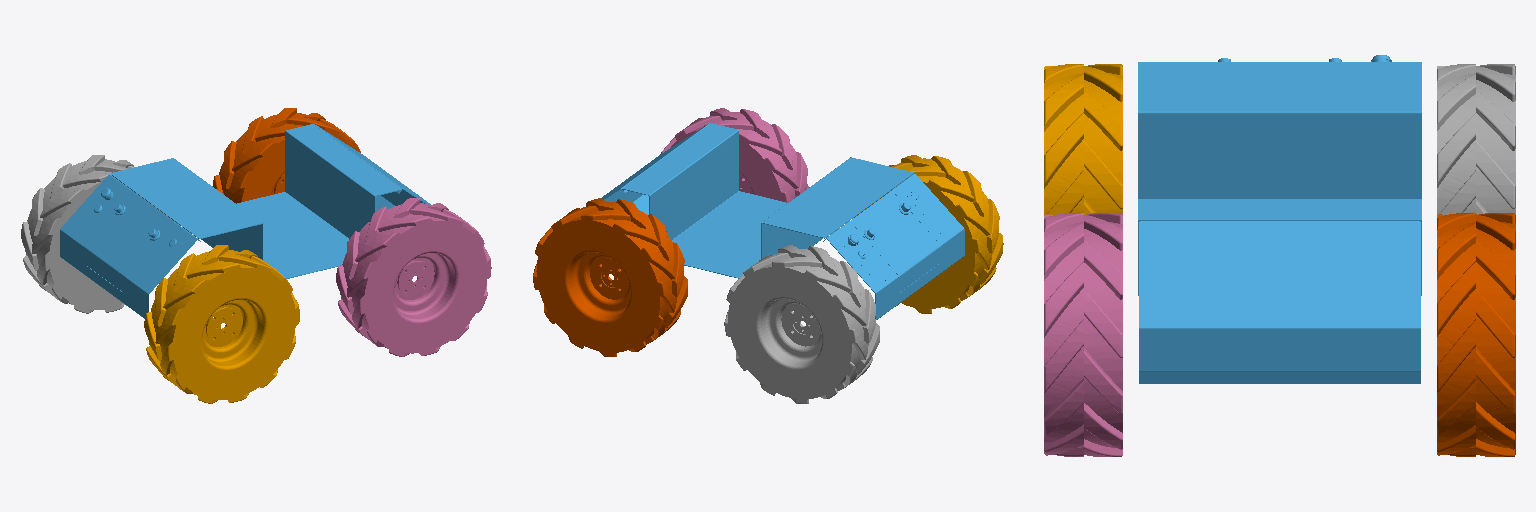
URDF robot description (husky):
<?xml version="1.0" ?>
<!-- =================================================================================== -->
<!-- |    This document was autogenerated by xacro from description.xacro              | -->
<!-- |    EDITING THIS FILE BY HAND IS NOT RECOMMENDED                                 | -->
<!-- =================================================================================== -->
<!--
Software License Agreement (BSD)

\file      description.urdf.xacro
\authors   [author] <[email redacted]>, [author] <[email redacted]>
\copyright Copyright (c) 2015, Clearpath Robotics, Inc., All rights reserved.

Redistribution and use in source and binary forms, with or without modification, are permitted provided that
the following conditions are met:
 * Redistributions of source code must retain the above copyright notice, this list of conditions and the
   following disclaimer.
 * Redistributions in binary form must reproduce the above copyright notice, this list of conditions and the
   following disclaimer in the documentation and/or other materials provided with the distribution.
 * Neither the name of Clearpath Robotics nor the names of its contributors may be used to endorse or promote
   products derived from this software without specific prior written permission.

THIS SOFTWARE IS PROVIDED BY THE COPYRIGHT [author] "AS IS" AND ANY EXPRESS OR IMPLIED WAR-
RANTIES, INCLUDING, BUT NOT LIMITED TO, THE IMPLIED WARRANTIES OF MERCHANTABILITY AND FITNESS FOR A PARTICULAR
PURPOSE ARE DISCLAIMED. IN NO EVENT SHALL THE COPYRIGHT [author] LIABLE FOR ANY DIRECT, IN-
DIRECT, INCIDENTAL, SPECIAL, EXEMPLARY, OR CONSEQUENTIAL DAMAGES (INCLUDING, BUT NOT LIMITED TO, PROCUREMENT
OF SUBSTITUTE GOODS OR SERVICES; LOSS OF USE, DATA, OR PROFITS; OR BUSINESS INTERRUPTION) HOWEVER CAUSED AND
ON ANY THEORY OF LIABILITY, WHETHER IN CONTRACT, STRICT LIABILITY, OR TORT (INCLUDING NEGLIGENCE OR OTHERWISE)
ARISING IN ANY WAY OUT OF THE USE OF THIS SOFTWARE, EVEN IF ADVISED OF THE POSSIBILITY OF SUCH DAMAGE.
-->
<robot name="husky" xmlns:xacro="http://ros.org/wiki/xacro">
  <!-- Included URDF/XACRO Files -->
  <!-- Base Size -->
  <!-- Wheel Mounting Positions -->
  <!-- Wheel Properties -->
  <!-- Base link is the center of the robot's bottom plate -->
  <link name="base_link">
    <visual>
      <origin rpy="0 0 0" xyz="0 0 0"/>
      <geometry>
        <mesh filename="package://husky_description/meshes/base_link.dae"/>
      </geometry>
    </visual>
    <collision>
      <origin rpy="0 0 0" xyz="0 0 0.061875"/>
      <geometry>
        <box size="0.9874 0.5709 0.12375"/>
      </geometry>
    </collision>
    <collision>
      <origin rpy="0 0 0" xyz="0 0 0.185625"/>
      <geometry>
        <box size="0.78992 0.5709 0.12375"/>
      </geometry>
    </collision>
  </link>
  <!-- For conviencence, added by [author] -->
  <link name="pelvis"/>
  <joint name="pelvis_joint" type="fixed">
    <origin rpy="0 0 0" xyz="0 0 0"/>
    <parent link="base_link"/>
    <child link="pelvis"/>
  </joint>
  <!-- Base footprint is on the ground under the robot -->
  <link name="base_footprint"/>
  <joint name="base_footprint_joint" type="fixed">
    <origin rpy="0 0 0" xyz="0 0 -0.14493"/>
    <parent link="base_link"/>
    <child link="base_footprint"/>
  </joint>
  <!-- Interial link stores the robot's inertial information -->
  <link name="inertial_link">
    <inertial>
      <mass value="33.455"/>
      <origin xyz="-0.08748 -0.00085 0.09947"/>
      <inertia ixx="0.6022" ixy="-0.02364" ixz="-0.1197" iyy="1.7386" iyz="-0.001544" izz="2.0296"/>
    </inertial>
  </link>
  <joint name="inertial_joint" type="fixed">
    <origin rpy="0 0 0" xyz="0 0 0"/>
    <parent link="base_link"/>
    <child link="inertial_link"/>
  </joint>
  <!-- IMU Link is the standard mounting position for the UM6 IMU.-->
  <!-- Can be modified with environment variables in /etc/ros/setup.bash -->
  <link name="imu_link"/>
  <joint name="imu_joint" type="fixed">
    <!-- GT changes 24/06/2016 -->
    <!-- MicroStrain IMU -->
    <origin rpy="0 1.5705 0" xyz="0.19 0 0.149"/>
    <!-- UM6 IMU -->
    <!--<origin rpy="0 -1.5708 3.1416" xyz="0.19 0 0.149"/>-->
    <parent link="base_link"/>
    <child link="imu_link"/>
  </joint>
  <gazebo reference="imu_link">
    </gazebo>
  <!-- Husky wheel macros -->
  <link name="front_left_wheel_link">
    <inertial>
      <mass value="2.637"/>
      <origin xyz="0 0 0"/>
      <inertia ixx="0.02467" ixy="0" ixz="0" iyy="0.02467" iyz="0" izz="0.04411"/>
    </inertial>
    <visual>
      <origin rpy="0 0 0" xyz="0 0 0"/>
      <geometry>
        <mesh filename="package://husky_description/meshes/wheel.dae"/>
      </geometry>
    </visual>
    <collision>
      <origin rpy="1.570795 0 0" xyz="0 0 0"/>
      <geometry>
        <cylinder length="0.1143" radius="0.17775"/>
      </geometry>
    </collision>
  </link>
  <gazebo reference="front_left_wheel_link">
    <mu1 value="1.0"/>
    <mu2 value="1.0"/>
    <kp value="10000000.0"/>
    <kd value="1.0"/>
    <fdir1 value="1 0 0"/>
  </gazebo>
  <joint name="front_left_wheel" type="continuous">
    <parent link="base_link"/>
    <child link="front_left_wheel_link"/>
    <origin rpy="0 0 0" xyz="0.256 0.2854 0.03282"/>
    <axis rpy="0 0 0" xyz="0 1 0"/>
  </joint>
  <transmission name="front_left_wheel_trans" type="SimpleTransmission">
    <type>transmission_interface/SimpleTransmission</type>
    <actuator name="front_left_wheel_motor">
      <mechanicalReduction>1</mechanicalReduction>
    </actuator>
    <joint name="front_left_wheel">
      <hardwareInterface>VelocityJointInterface</hardwareInterface>
    </joint>
  </transmission>
  <link name="front_right_wheel_link">
    <inertial>
      <mass value="2.637"/>
      <origin xyz="0 0 0"/>
      <inertia ixx="0.02467" ixy="0" ixz="0" iyy="0.02467" iyz="0" izz="0.04411"/>
    </inertial>
    <visual>
      <origin rpy="0 0 0" xyz="0 0 0"/>
      <geometry>
        <mesh filename="package://husky_description/meshes/wheel.dae"/>
      </geometry>
    </visual>
    <collision>
      <origin rpy="1.570795 0 0" xyz="0 0 0"/>
      <geometry>
        <cylinder length="0.1143" radius="0.17775"/>
      </geometry>
    </collision>
  </link>
  <gazebo reference="front_right_wheel_link">
    <mu1 value="1.0"/>
    <mu2 value="1.0"/>
    <kp value="10000000.0"/>
    <kd value="1.0"/>
    <fdir1 value="1 0 0"/>
  </gazebo>
  <joint name="front_right_wheel" type="continuous">
    <parent link="base_link"/>
    <child link="front_right_wheel_link"/>
    <origin rpy="0 0 0" xyz="0.256 -0.2854 0.03282"/>
    <axis rpy="0 0 0" xyz="0 1 0"/>
  </joint>
  <transmission name="front_right_wheel_trans" type="SimpleTransmission">
    <type>transmission_interface/SimpleTransmission</type>
    <actuator name="front_right_wheel_motor">
      <mechanicalReduction>1</mechanicalReduction>
    </actuator>
    <joint name="front_right_wheel">
      <hardwareInterface>VelocityJointInterface</hardwareInterface>
    </joint>
  </transmission>
  <link name="rear_left_wheel_link">
    <inertial>
      <mass value="2.637"/>
      <origin xyz="0 0 0"/>
      <inertia ixx="0.02467" ixy="0" ixz="0" iyy="0.02467" iyz="0" izz="0.04411"/>
    </inertial>
    <visual>
      <origin rpy="0 0 0" xyz="0 0 0"/>
      <geometry>
        <mesh filename="package://husky_description/meshes/wheel.dae"/>
      </geometry>
    </visual>
    <collision>
      <origin rpy="1.570795 0 0" xyz="0 0 0"/>
      <geometry>
        <cylinder length="0.1143" radius="0.17775"/>
      </geometry>
    </collision>
  </link>
  <gazebo reference="rear_left_wheel_link">
    <mu1 value="1.0"/>
    <mu2 value="1.0"/>
    <kp value="10000000.0"/>
    <kd value="1.0"/>
    <fdir1 value="1 0 0"/>
  </gazebo>
  <joint name="rear_left_wheel" type="continuous">
    <parent link="base_link"/>
    <child link="rear_left_wheel_link"/>
    <origin rpy="0 0 0" xyz="-0.256 0.2854 0.03282"/>
    <axis rpy="0 0 0" xyz="0 1 0"/>
  </joint>
  <transmission name="rear_left_wheel_trans" type="SimpleTransmission">
    <type>transmission_interface/SimpleTransmission</type>
    <actuator name="rear_left_wheel_motor">
      <mechanicalReduction>1</mechanicalReduction>
    </actuator>
    <joint name="rear_left_wheel">
      <hardwareInterface>VelocityJointInterface</hardwareInterface>
    </joint>
  </transmission>
  <link name="rear_right_wheel_link">
    <inertial>
      <mass value="2.637"/>
      <origin xyz="0 0 0"/>
      <inertia ixx="0.02467" ixy="0" ixz="0" iyy="0.02467" iyz="0" izz="0.04411"/>
    </inertial>
    <visual>
      <origin rpy="0 0 0" xyz="0 0 0"/>
      <geometry>
        <mesh filename="package://husky_description/meshes/wheel.dae"/>
      </geometry>
    </visual>
    <collision>
      <origin rpy="1.570795 0 0" xyz="0 0 0"/>
      <geometry>
        <cylinder length="0.1143" radius="0.17775"/>
      </geometry>
    </collision>
  </link>
  <gazebo reference="rear_right_wheel_link">
    <mu1 value="1.0"/>
    <mu2 value="1.0"/>
    <kp value="10000000.0"/>
    <kd value="1.0"/>
    <fdir1 value="1 0 0"/>
  </gazebo>
  <joint name="rear_right_wheel" type="continuous">
    <parent link="base_link"/>
    <child link="rear_right_wheel_link"/>
    <origin rpy="0 0 0" xyz="-0.256 -0.2854 0.03282"/>
    <axis rpy="0 0 0" xyz="0 1 0"/>
  </joint>
  <transmission name="rear_right_wheel_trans" type="SimpleTransmission">
    <type>transmission_interface/SimpleTransmission</type>
    <actuator name="rear_right_wheel_motor">
      <mechanicalReduction>1</mechanicalReduction>
    </actuator>
    <joint name="rear_right_wheel">
      <hardwareInterface>VelocityJointInterface</hardwareInterface>
    </joint>
  </transmission>
  <!-- Spawn Husky chassis -->
  <link name="top_chassis_link">
    <visual>
      <origin rpy="0 0 0" xyz="0 0 0"/>
      <geometry>
        <mesh filename="package://husky_description/meshes/top_chassis.dae"/>
      </geometry>
    </visual>
  </link>
  <!-- Attach chassis to the robot -->
  <joint name="top_chassis_joint" type="fixed">
    <parent link="base_link"/>
    <child link="top_chassis_link"/>
  </joint>
  <!-- Spawn user rails -->
  <link name="user_rail_link">
    <visual>
      <geometry>
        <mesh filename="package://husky_description/meshes/user_rail.dae"/>
      </geometry>
    </visual>
  </link>
  <!-- Attach user rails to base link -->
  <joint name="user_rail" type="fixed">
    <origin rpy="0 0 0" xyz="0.272 0 0.245"/>
    <parent link="base_link"/>
    <child link="user_rail_link"/>
  </joint>
  <!-- Spawn front bumper link -->
  <link name="front_bumper_link">
    <visual>
      <geometry>
        <mesh filename="package://husky_description/meshes/bumper.dae"/>
      </geometry>
    </visual>
  </link>
  <!-- Attach front bumper -->
  <joint name="front_bumper" type="fixed">
    <origin rpy="0 0 0" xyz="0.48 0 0.091"/>
    <parent link="base_link"/>
    <child link="front_bumper_link"/>
  </joint>
  <!-- Spawn rear bumper link -->
  <link name="rear_bumper_link">
    <visual>
      <geometry>
        <mesh filename="package://husky_description/meshes/bumper.dae"/>
      </geometry>
    </visual>
  </link>
  <!-- Attach rear bumper -->
  <joint name="rear_bumper" type="fixed">
    <origin rpy="0 0 3.14159" xyz="-0.48 0 0.091"/>
    <parent link="base_link"/>
    <child link="rear_bumper_link"/>
  </joint>
  <!-- Spawn the top plate -->
  <!-- Corresponds to the one provided by Clearpath, added by [author] -->
  <link name="topPlate">
    <visual>
      <geometry>
        <mesh filename="package://husky_description/meshes/short_top_plate.STL"/>
      </geometry>
      <material name="black">
        <color rgba="0.6 0.6 0.6 1"/>
      </material>
    </visual>
  </link>
  <!-- Attach top plate -->
  <!-- Corresponds to the one provided by Clearpath, added by [author] -->
  <joint name="base_link_to_topPlate" type="fixed">
    <parent link="base_link"/>
    <child link="topPlate"/>
    <origin xyz="0.02 0.0 0.2503" rpy="0.0 0.0 0.0"/>
  </joint>
  <!-- Attach scaffolding at the back, provided by Clearpath, added by [author] -->
  <joint name="topPlate_to_300Arch" type="fixed">
    <parent link="topPlate"/>
    <child link="300Arch"/>
    <origin xyz="-0.28 0.0 0.3" rpy="0.0 0.0 3.14159"/>
  </joint>

  <link name="300Arch">
    <visual>
      <geometry>
        <mesh filename="package://husky_description/meshes/300Arch.STL"/>
      </geometry>
      <material name="black">
        <color rgba="0.6 0.6 0.6 1"/>
      </material>
    </visual>
  </link>
</robot>

--- Render facts (derived) ---
Views: 3 orthographic renders of the robot side by side, from view 1: azimuth 30°, elevation 25°; view 2: azimuth 150°, elevation 25°; view 3: azimuth 270°, elevation 25°.
Model husky with 15 links and 14 joints (4 continuous, 10 fixed), rooted at base_link, posed all joints at 0.
Visible links, largest first — view 1: top_chassis_link, rear_right_wheel_link, front_right_wheel_link, rear_left_wheel_link, front_left_wheel_link; view 2: top_chassis_link, rear_left_wheel_link, front_left_wheel_link, rear_right_wheel_link, front_right_wheel_link; view 3: top_chassis_link, front_left_wheel_link, front_right_wheel_link, rear_left_wheel_link, rear_right_wheel_link.
Link boxes in pixels (left/top/right/bottom): top_chassis_link: left=60, top=124, right=430, bottom=318; rear_right_wheel_link: left=144, top=245, right=299, bottom=403; front_right_wheel_link: left=336, top=198, right=491, bottom=356; rear_left_wheel_link: left=21, top=155, right=174, bottom=313; front_left_wheel_link: left=213, top=108, right=360, bottom=203; top_chassis_link: left=601, top=123, right=964, bottom=319; rear_left_wheel_link: left=724, top=245, right=879, bottom=403; front_left_wheel_link: left=533, top=198, right=687, bottom=356; rear_right_wheel_link: left=854, top=155, right=1003, bottom=313; front_right_wheel_link: left=661, top=108, right=808, bottom=202; top_chassis_link: left=1138, top=55, right=1421, bottom=383; front_left_wheel_link: left=1437, top=213, right=1515, bottom=456; front_right_wheel_link: left=1044, top=213, right=1122, bottom=456; rear_left_wheel_link: left=1437, top=64, right=1515, bottom=214; rear_right_wheel_link: left=1044, top=64, right=1122, bottom=215.
Size in the robot's own frame: 0.8676 by 0.6851 by 0.3693 metres.
5 mesh visuals loaded from 7 distinct referenced files (2 Collada DAE); not drawn: 6 (reference not matched to a file when rendering).